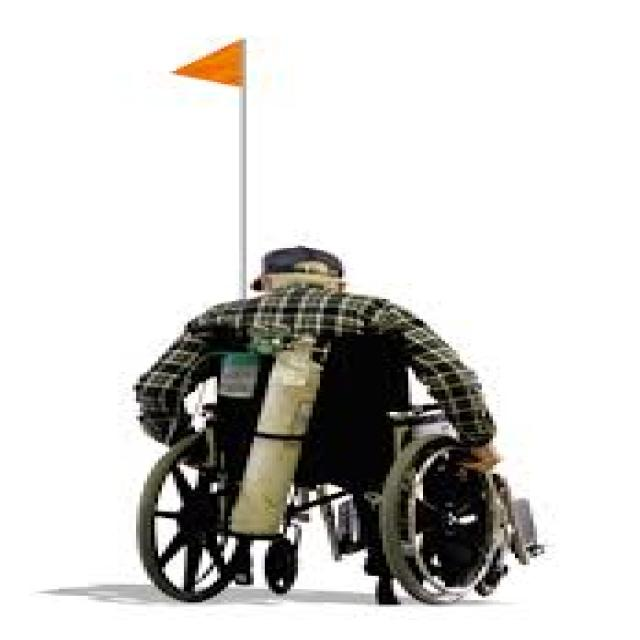wheelchairs: (114, 330, 555, 609)
